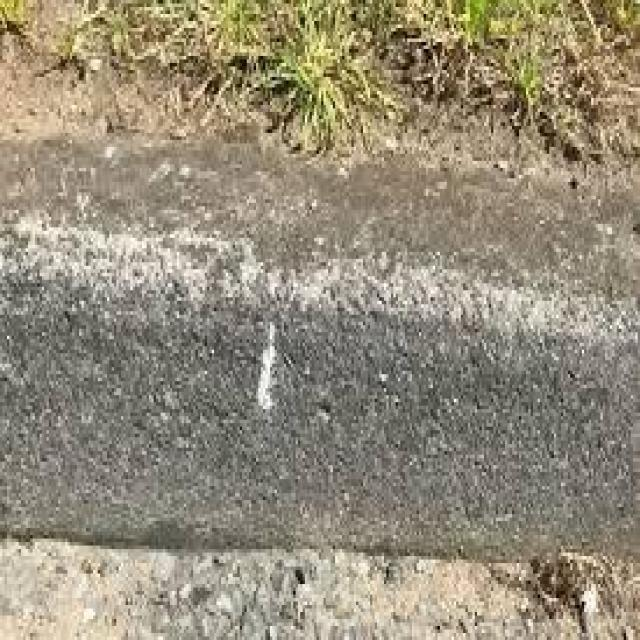curb: (11, 119, 634, 576)
